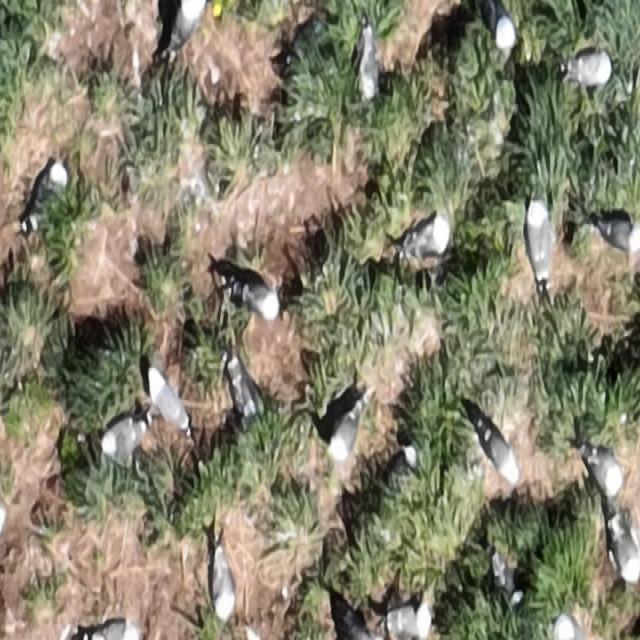umineko: (469, 407, 523, 483), (144, 361, 196, 432), (27, 157, 68, 231), (524, 199, 556, 288), (166, 0, 206, 67), (554, 48, 612, 89), (207, 540, 235, 624), (399, 211, 450, 256), (224, 354, 256, 421), (356, 31, 386, 98), (608, 512, 638, 577), (586, 444, 620, 500), (593, 214, 637, 253), (385, 603, 426, 640), (484, 6, 516, 52), (103, 419, 143, 454), (242, 283, 278, 319), (332, 415, 358, 456), (86, 620, 142, 638)
